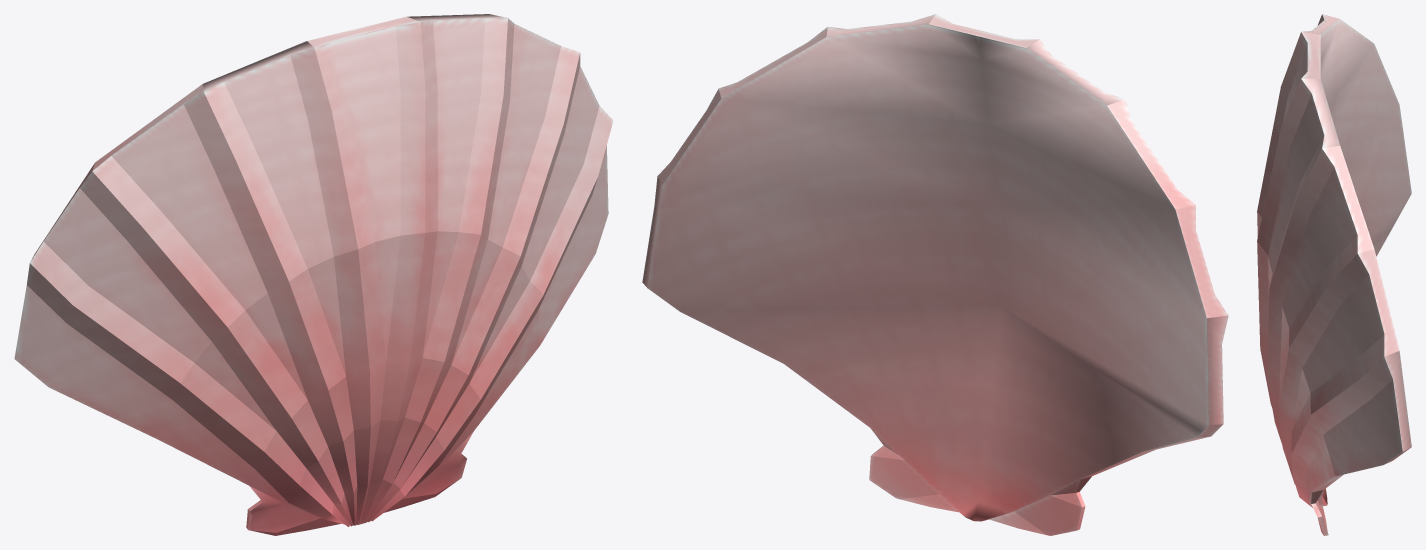
The model's file is Conchiglia_Rosa.FBX.
3 views of the same model, side by side, from view 1: azimuth 30°, elevation 25°; view 2: azimuth 150°, elevation 25°; view 3: azimuth 270°, elevation 25° (orthographic). The views are drawn at different scales.
Parts seen in each view (by area): view 1: Cylinder001; view 2: Cylinder001; view 3: Cylinder001.
Boxes of the visible parts, bbox=[...] form: Cylinder001: bbox=[14, 14, 613, 535]; Cylinder001: bbox=[642, 14, 1228, 535]; Cylinder001: bbox=[1257, 14, 1411, 535].
Size of the model in its own units: 129 by 103 by 32.21.
